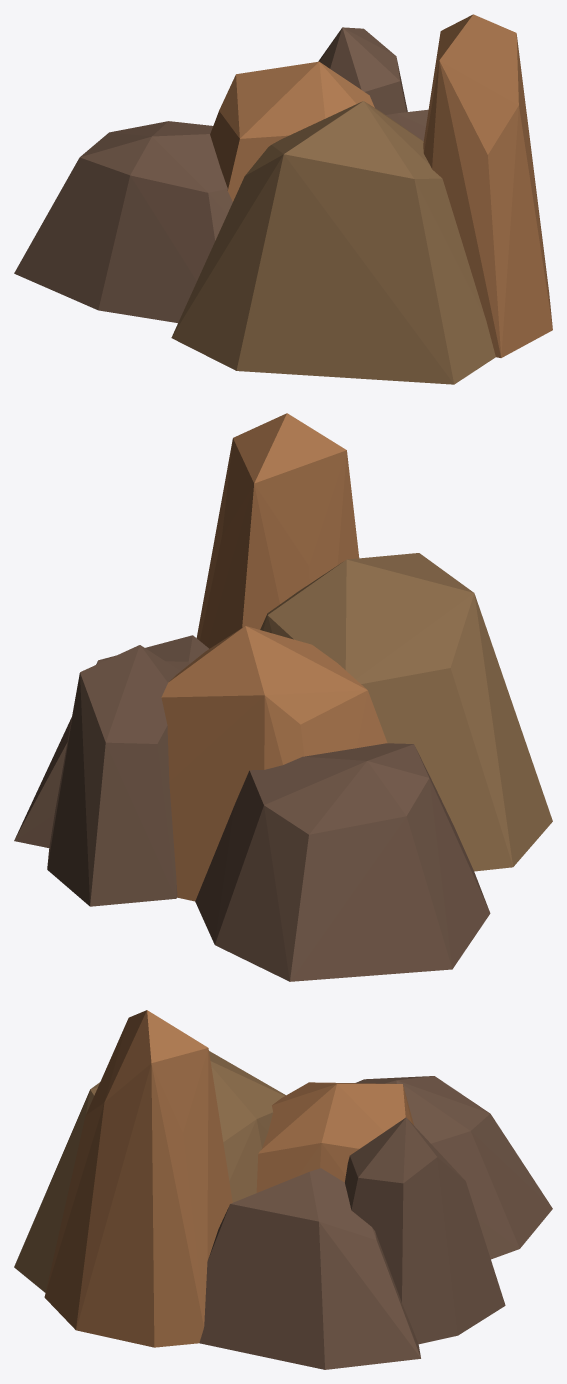
File: env_rock_b.glb
3 renders of one model, top to bottom at view 1: azimuth 30°, elevation 25°; view 2: azimuth 150°, elevation 25°; view 3: azimuth 270°, elevation 25°, orthographic. The views are drawn at different scales.
Parts seen in each view (by area): view 1: rock-col; view 2: rock-col; view 3: rock-col.
Part boxes in pixels (left/top/right/bottom): rock-col: left=14, top=14, right=552, bottom=384; rock-col: left=14, top=413, right=552, bottom=981; rock-col: left=14, top=1010, right=552, bottom=1369.
Bounding box in the file's own units: 20.72 × 13.9 × 22.71.
1 material, 1 textured.
